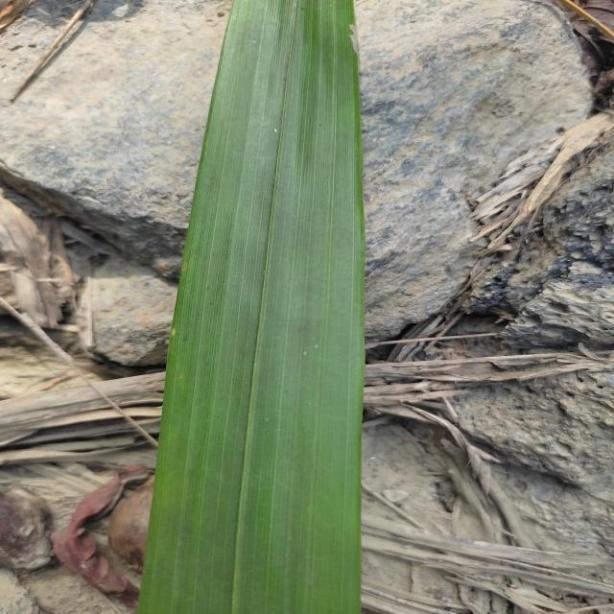Healthy: (140, 9, 364, 614)
